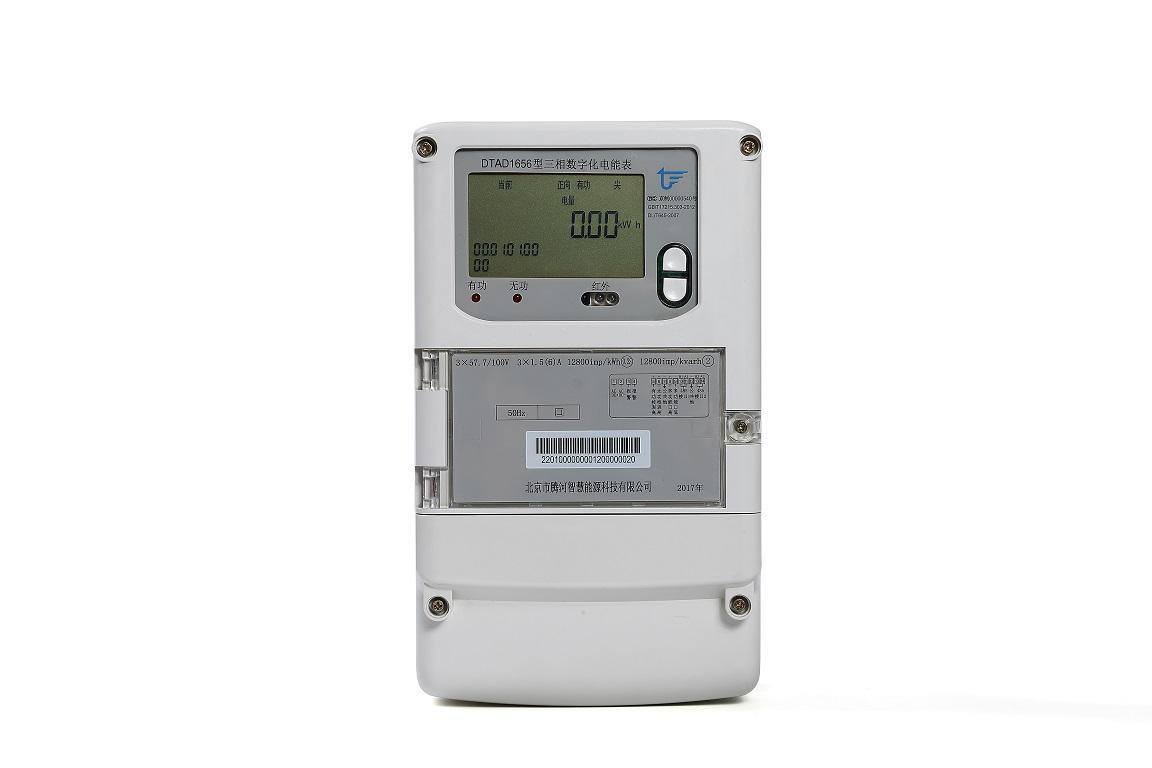digital: (412, 122, 760, 707)
